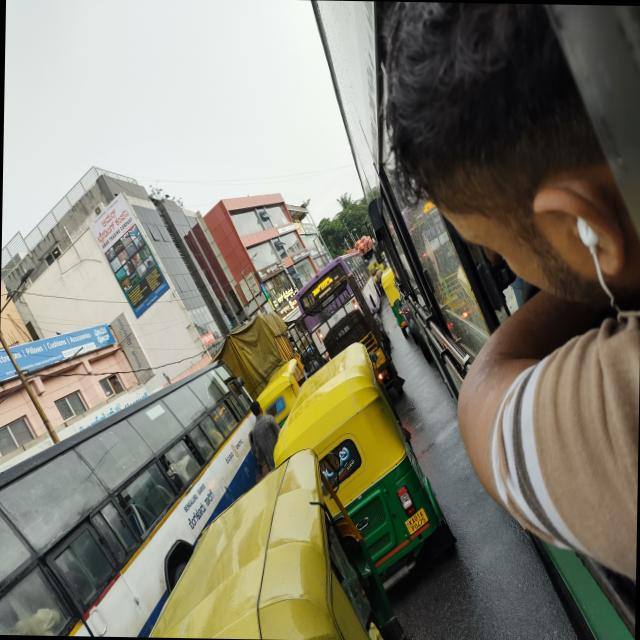bus: (0, 341, 260, 638), (284, 241, 380, 342)
display: (309, 274, 332, 296)
dnumber: (311, 286, 320, 296)
